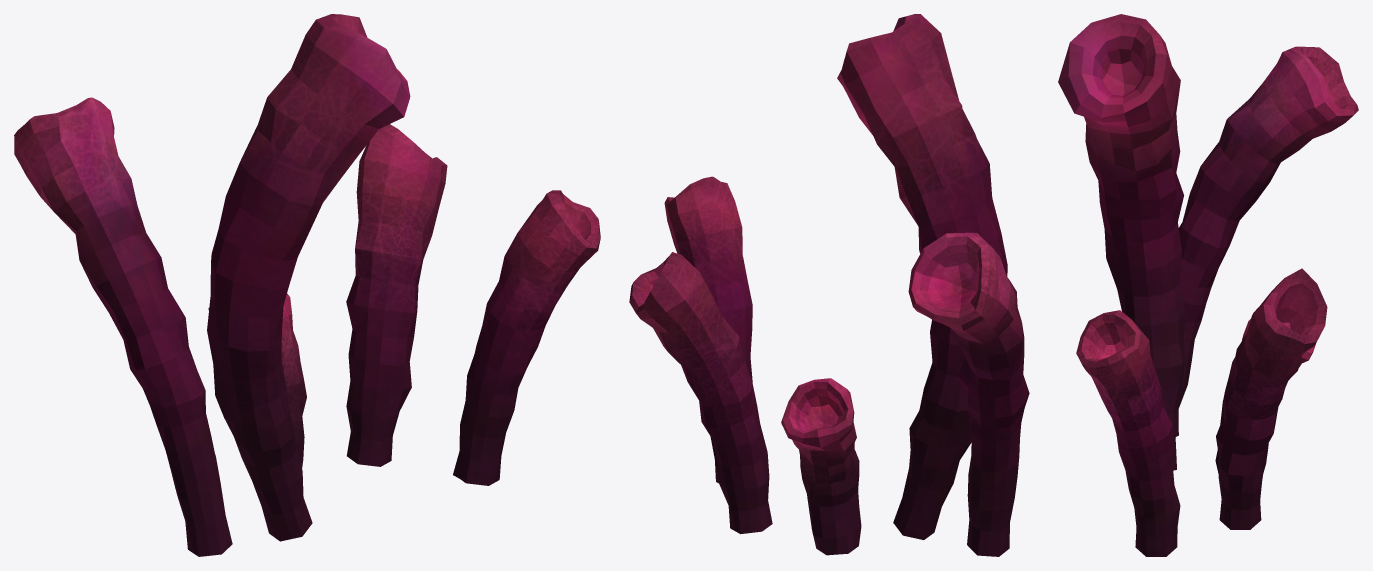
File: plant_03.fbx
3 views of the same model, side by side, from view 1: azimuth 30°, elevation 25°; view 2: azimuth 150°, elevation 25°; view 3: azimuth 270°, elevation 25° (orthographic). The views are drawn at different scales.
Parts seen in each view (by area): view 1: Mesh; view 2: Mesh; view 3: Mesh.
Part boxes in pixels (x1=…): Mesh: x1=14, y1=14, x2=600, y2=556; Mesh: x1=629, y1=14, x2=1029, y2=556; Mesh: x1=1058, y1=14, x2=1358, y2=556.
Size of the model in its own units: 9.21 by 9.87 by 5.77.
1 material, 1 textured.
